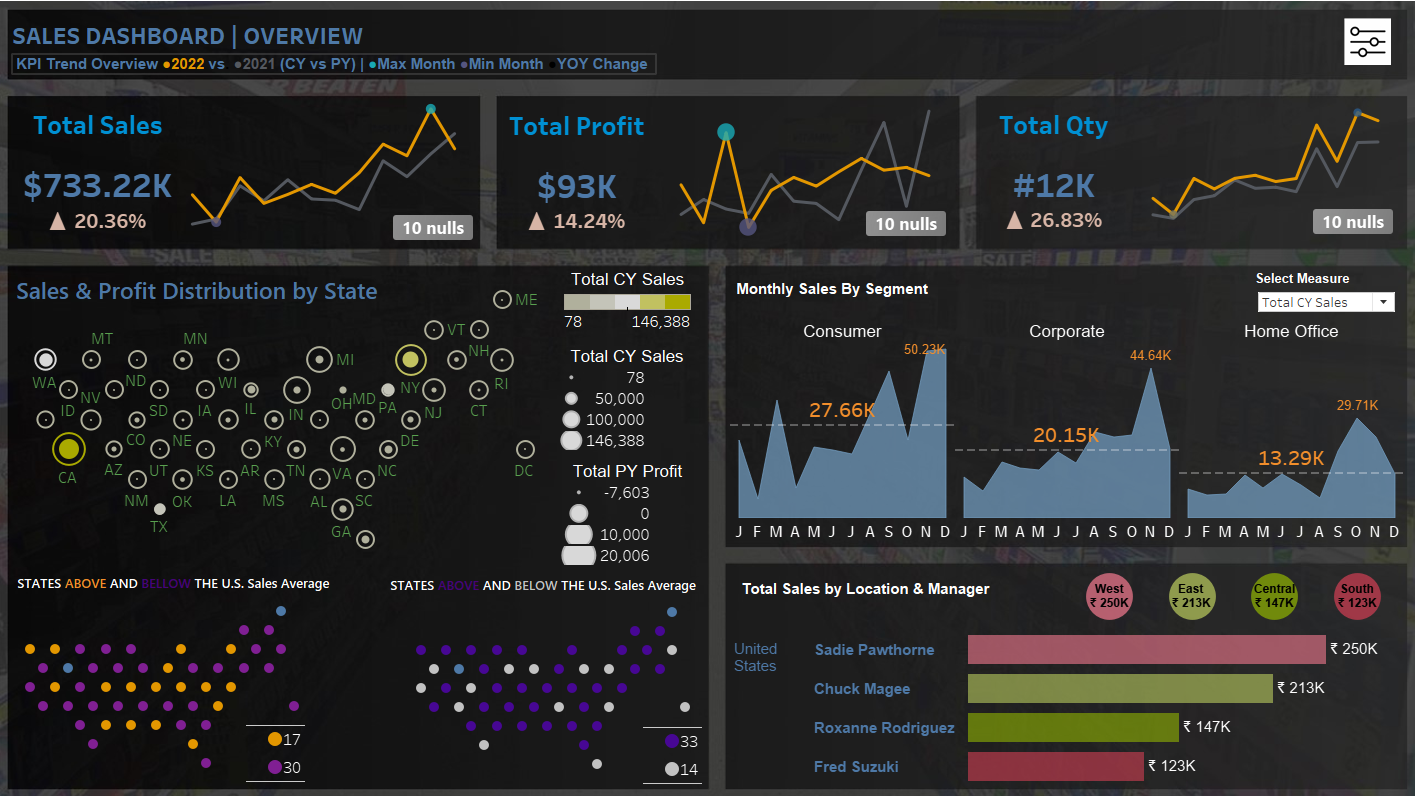

This screenshot's page, from the dashboard's own definition file:
{"tool":"tableau","page":{"name":"Sales Dashboard","canvas":[1600,900],"ordinal":0},"visuals":[{"type":"image","param":"C:/Users/Satyam Baviskar/Desktop/Shivam Baviskar/Study/tableau/Project 2/Sales D","box":[8,8,1424,884]},{"type":"legend","title":"Sales Sparkline","param":"[federated.1i9cowc15l6q6d13qn5qq0urfd17].[:Measure Names]","box":[1432,8,160,72]},{"type":"text","box":[21,63,557,46]},{"type":"dashboard-object","box":[1355,69,48,47]},{"type":"legend","title":"Sales Sparkline","param":"[federated.1i9cowc15l6q6d13qn5qq0urfd17].[usr:Calculation_2035345563164266496:qk","box":[1432,80,160,73]},{"type":"filter","title":"Sales and Profit by state","param":"[federated.1i9cowc15l6q6d13qn5qq0urfd17].[none:Category:nk]","box":[1243,90,160,51]},{"type":"text","box":[25,106,642,18]},{"type":"filter","title":"Sales and Profit by state","param":"[federated.1i9cowc15l6q6d13qn5qq0urfd17].[none:Region:nk]","box":[1243,141,160,51]},{"type":"worksheet","title":"Sales Sparkline","mark":"Line","rows":["Calculation_2035345563164266496"],"cols":["Order Date"],"box":[180,149,310,147]},{"type":"worksheet","title":"Sales KPI ","mark":"Automatic","box":[26,150,168,145]},{"type":"worksheet","title":"Profit KPI","mark":"Automatic","box":[512,150,154,146]},{"type":"worksheet","title":"Profit Sparkline ","mark":"Automatic","rows":["Min Max Month (copy)_2035345563182125057"],"cols":["Order Date"],"box":[666,150,301,146]},{"type":"worksheet","title":"QTY KPI","mark":"Automatic","box":[993,150,147,144]},{"type":"worksheet","title":"Quantity Sparkline","mark":"Automatic","rows":["Min Max Profit (copy)_2035345563184861186"],"cols":["Order Date"],"box":[1140,150,274,144]},{"type":"legend","title":"Profit Sparkline ","param":"[federated.1i9cowc15l6q6d13qn5qq0urfd17].[usr:Min Max Month (copy)_2035345563182","box":[1432,153,160,73]},{"type":"filter","title":"Sales and Profit by state","param":"[federated.1i9cowc15l6q6d13qn5qq0urfd17].[none:Ship Mode:nk]","box":[1243,192,160,50]},{"type":"legend","title":"Quantity Sparkline","param":"[federated.1i9cowc15l6q6d13qn5qq0urfd17].[usr:Min Max Profit (copy)_203534556318","box":[1432,226,160,73]},{"type":"worksheet","title":"Sales and Profit by state","mark":"Circle","rows":["Row"],"cols":["Column","Column"],"box":[23,321,547,299]},{"type":"text","box":[25,321,378,39]},{"type":"legend","title":"Sales and Profit by state","param":"[federated.1i9cowc15l6q6d13qn5qq0urfd17].[sum:Calculation_1853231252897308672:qk","box":[572,321,135,76]},{"type":"parameter","param":"[Parameters].[Parameter 1]","box":[1267,322,143,44]},{"type":"text","box":[745,325,227,30]},{"type":"worksheet","title":"Monthly sales by segment","mark":"Area","rows":["Calculation_1872090077754556420"],"cols":["Segment","Order Date"],"box":[742,372,674,222]},{"type":"legend","title":"Sales and Profit by state","param":"[federated.1i9cowc15l6q6d13qn5qq0urfd17].[sum:Calculation_1853231252897308672:qk","box":[569,398,140,108]},{"type":"legend","title":"Sales and Profit by state","param":"[federated.1i9cowc15l6q6d13qn5qq0urfd17].[sum:Total PY Sales (copy)_185323125290","box":[570,513,139,104]},{"type":"text","box":[26,619,319,30]},{"type":"worksheet","title":"Regionwise sales","mark":"Circle","cols":["Region"],"box":[1080,620,331,55]},{"type":"text","box":[399,621,318,30]},{"type":"text","box":[742,621,271,38]},{"type":"worksheet","title":"AVG Sales By State","mark":"Circle","rows":["Row"],"cols":["Column"],"box":[24,643,300,190]},{"type":"worksheet","title":"Profit By State ","mark":"Circle","rows":["Row"],"cols":["Column"],"box":[415,644,300,190]},{"type":"worksheet","title":"Total Sales by Location and Mangere","mark":"Automatic","rows":["Country/Region","Regional Manager"],"cols":["Calculation_1853231252897308672"],"box":[740,681,672,156]},{"type":"worksheet","title":"Avg Sales by State Count","mark":"Circle","rows":["Calculation_103864273672839170"],"box":[258,776,59,57]},{"type":"worksheet","title":"Avg Profit by State Count ","mark":"Circle","rows":["Sales Avg Color  (copy)_103864273677602821"],"box":[655,778,59,57]}]}

Visuals, with their boxes in screenshot pixels (x1, y1, x2, y2), scaled from the page's 1600x900 canvas onto the 1417x796 screenshot:
image: bbox(7, 7, 1268, 789)
"Sales Sparkline" legend: bbox(1268, 7, 1410, 71)
text: bbox(19, 56, 512, 96)
dashboard-object: bbox(1200, 61, 1243, 103)
"Sales Sparkline" legend: bbox(1268, 71, 1410, 135)
"Sales and Profit by state" filter: bbox(1101, 80, 1243, 125)
text: bbox(22, 94, 591, 110)
"Sales and Profit by state" filter: bbox(1101, 125, 1243, 170)
"Sales Sparkline" worksheet (Line marks): bbox(159, 132, 434, 262)
"Sales KPI " worksheet: bbox(23, 133, 172, 261)
"Profit KPI" worksheet: bbox(453, 133, 590, 262)
"Profit Sparkline " worksheet: bbox(590, 133, 856, 262)
"QTY KPI" worksheet: bbox(879, 133, 1010, 260)
"Quantity Sparkline" worksheet: bbox(1010, 133, 1252, 260)
"Profit Sparkline " legend: bbox(1268, 135, 1410, 200)
"Sales and Profit by state" filter: bbox(1101, 170, 1243, 214)
"Quantity Sparkline" legend: bbox(1268, 200, 1410, 264)
"Sales and Profit by state" worksheet (Circle marks): bbox(20, 284, 505, 548)
text: bbox(22, 284, 357, 318)
"Sales and Profit by state" legend: bbox(507, 284, 626, 351)
parameter: bbox(1122, 285, 1249, 324)
text: bbox(660, 287, 861, 314)
"Monthly sales by segment" worksheet (Area marks): bbox(657, 329, 1254, 525)
"Sales and Profit by state" legend: bbox(504, 352, 628, 448)
"Sales and Profit by state" legend: bbox(505, 454, 628, 546)
text: bbox(23, 547, 306, 574)
"Regionwise sales" worksheet (Circle marks): bbox(956, 548, 1250, 597)
text: bbox(353, 549, 635, 576)
text: bbox(657, 549, 897, 583)
"AVG Sales By State" worksheet (Circle marks): bbox(21, 569, 287, 737)
"Profit By State " worksheet (Circle marks): bbox(368, 570, 633, 738)
"Total Sales by Location and Mangere" worksheet: bbox(655, 602, 1251, 740)
"Avg Sales by State Count" worksheet (Circle marks): bbox(228, 686, 281, 737)
"Avg Profit by State Count " worksheet (Circle marks): bbox(580, 688, 632, 739)
